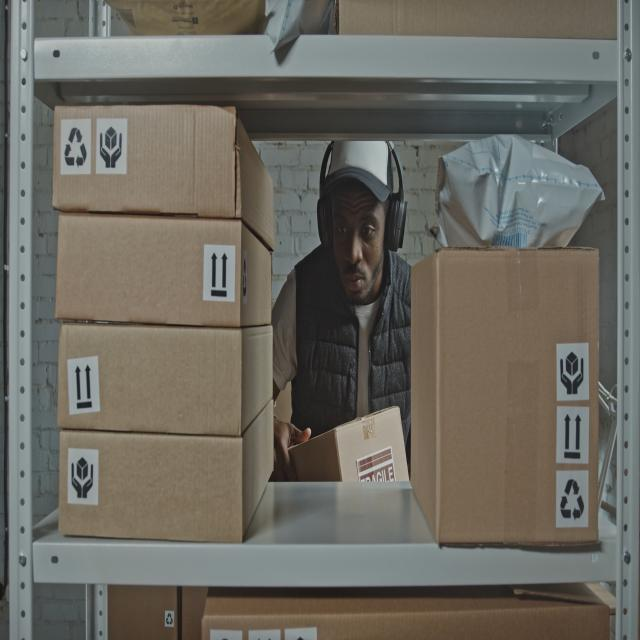counting-the-number-of-boxes: (409, 250, 600, 544), (53, 107, 275, 253), (58, 399, 275, 542), (55, 217, 274, 327), (58, 325, 274, 436), (289, 406, 410, 481)
